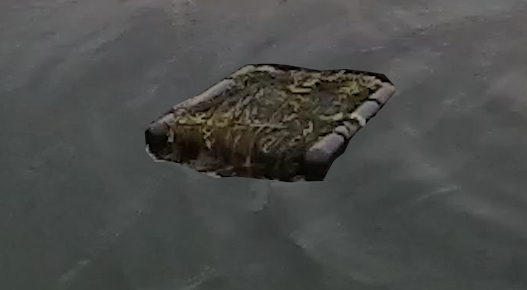bag: (144, 62, 395, 184)
